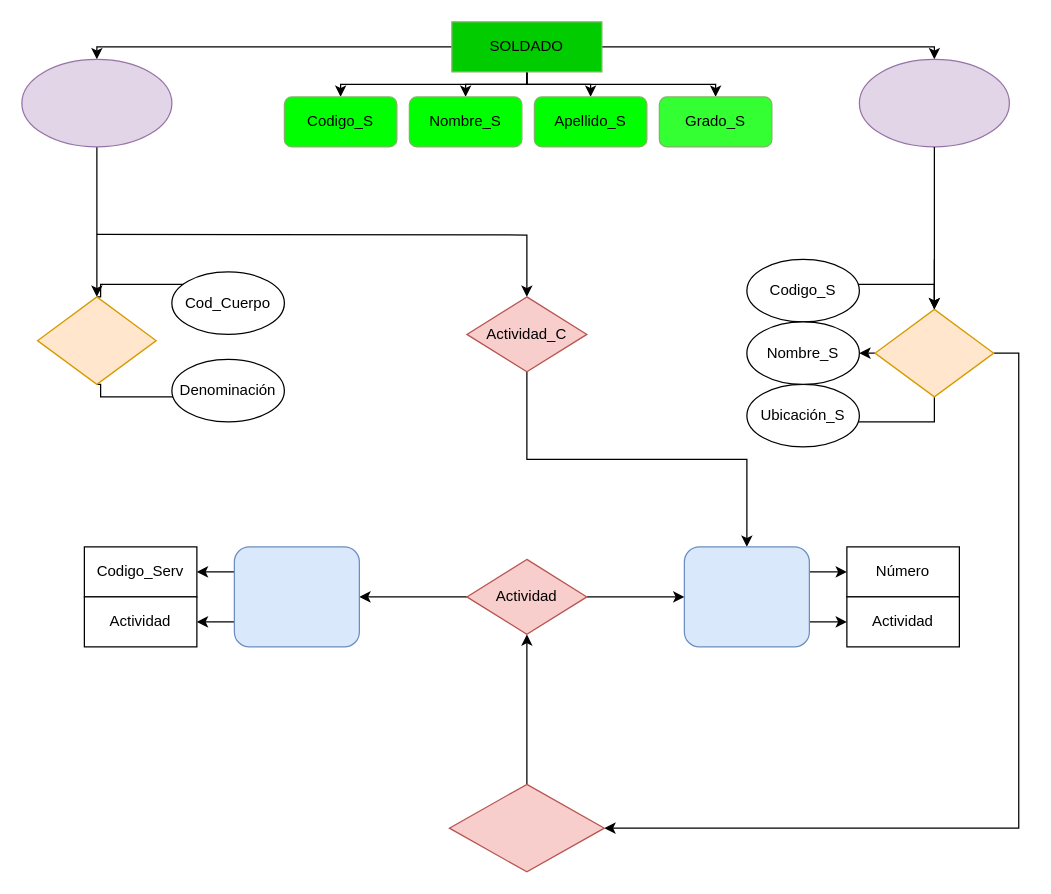
The diagram is 1051 pixels wide and 894 high, and some of its shapes have lost their labels. Here are the shapes that lost their labels. From the top down, the centre of each, then its label:
At [96,102]: "Cuerpo_S".
At [933,102]: "Cartel_S".
At [96,340]: "Cuerpo_E".
At [934,352]: "Cuarteles".
At [296,596]: "Servicio".
At [746,596]: "Compañia".
At [526,827]: "Denominacion_C".
